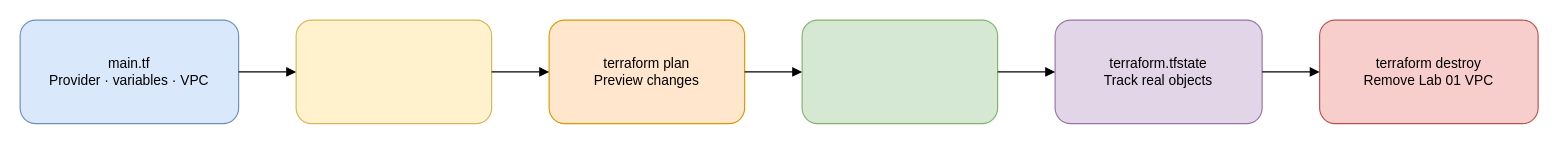
The diagram is 1558 pixels wide and 144 high, and some of its shapes have lost their labels. Each missing label, with the centre of its shape:
"terraform apply Create VPC" belongs at (x=899, y=71).
"terraform init Prepare providers" belongs at (x=393, y=71).
